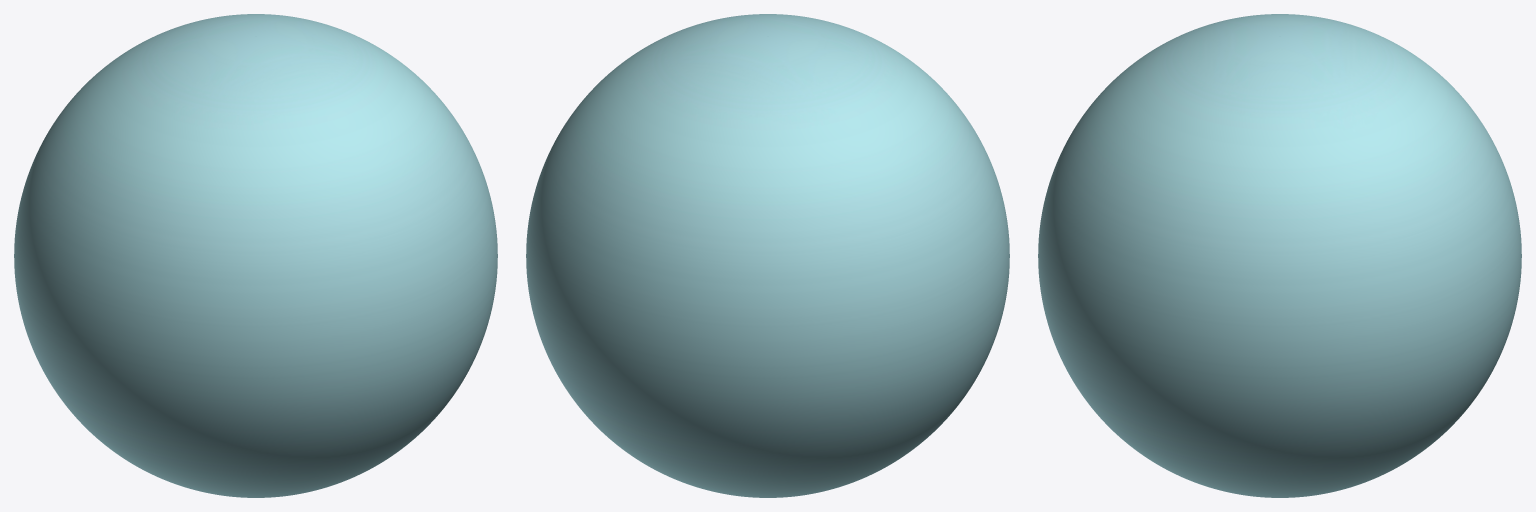
File: uranus.glb
3 views of the same model, side by side, from view 1: azimuth 30°, elevation 25°; view 2: azimuth 150°, elevation 25°; view 3: azimuth 270°, elevation 25° (orthographic).
Parts seen in each view (by area): view 1: Uranus; view 2: Uranus; view 3: Uranus.
Boxes of the visible parts, box(x1,y1,x2,y2) form: Uranus: box(14, 14, 497, 497); Uranus: box(526, 14, 1009, 497); Uranus: box(1038, 14, 1521, 497).
Size of the model in its own units: 3.1 by 3.1 by 3.1.
1 material, 1 textured.
